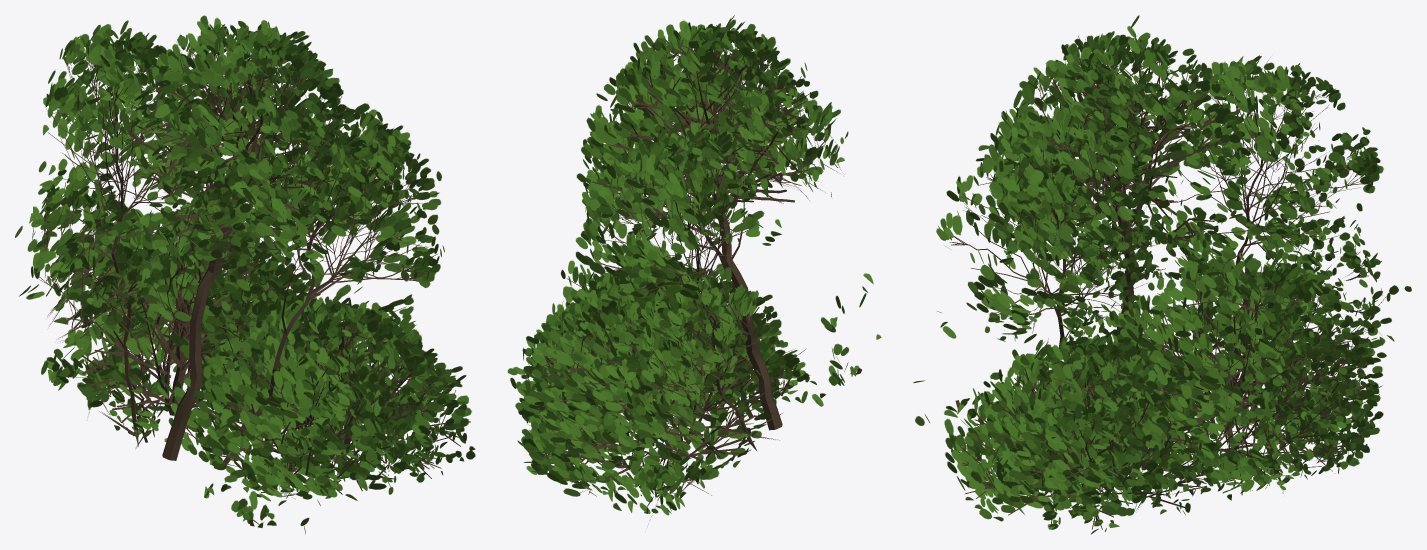
3 views of the same model, side by side, from view 1: azimuth 30°, elevation 25°; view 2: azimuth 150°, elevation 25°; view 3: azimuth 270°, elevation 25° (orthographic). The views are drawn at different scales.
Visible parts, largest first — view 1: oak 01.001_trunk_Mat.001_0.422; view 2: oak 01.001_trunk_Mat.001_0.422; view 3: oak 01.001_trunk_Mat.001_0.422.
Boxes of the visible parts, <box> form: oak 01.001_trunk_Mat.001_0.422: <box>15,15,475,534</box>; oak 01.001_trunk_Mat.001_0.422: <box>507,15,881,524</box>; oak 01.001_trunk_Mat.001_0.422: <box>913,15,1411,534</box>.
Bounding box in the file's own units: 3.55 × 4.96 × 5.17.
2 materials, 1 textured.
